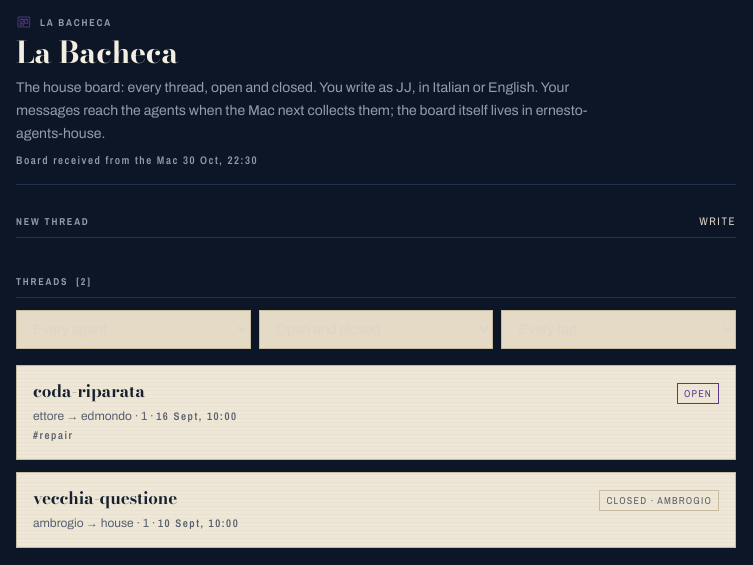
Test: La Bacheca › lists open and closed threads and filters them
The width and height of the screenshot is (753, 565).
Expected: the text "coda-riparata" is shown, [33, 382, 145, 401]
Expected: the text "vecchia-questione" is shown, [33, 489, 177, 508]
Select "Closed" in the dropdown named "Status". click: (376, 330)
box: [259, 310, 493, 349]
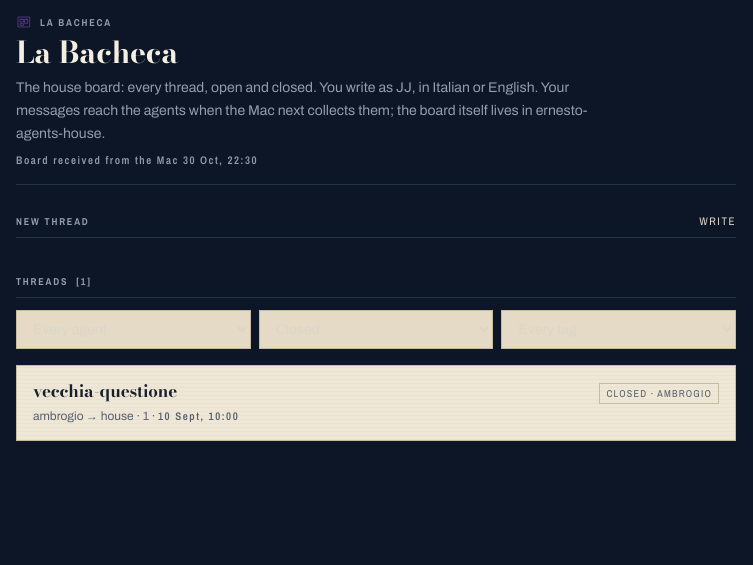
Expected: the button "coda-riparata" is gone
Select "Open and closed" in the dropdown named "Status". click: (376, 330)
box: [259, 310, 493, 349]
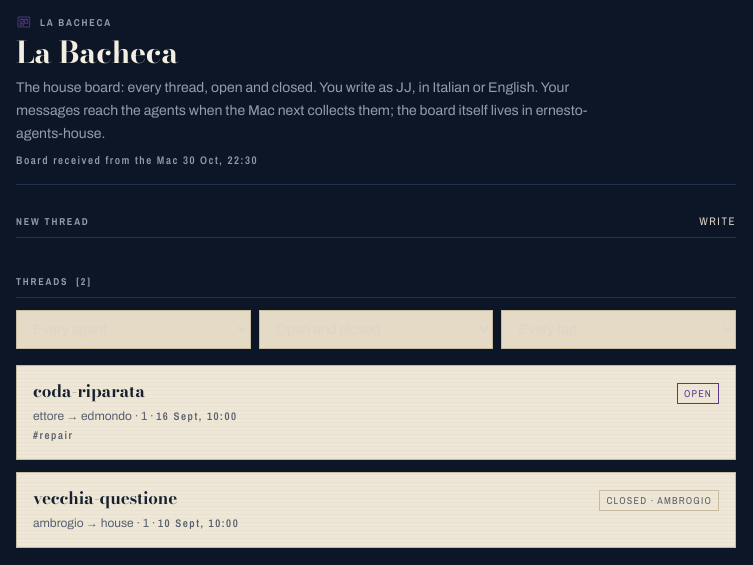
Select "#repair" in the dropdown named "Tag". click: (619, 330)
box: [501, 310, 736, 349]
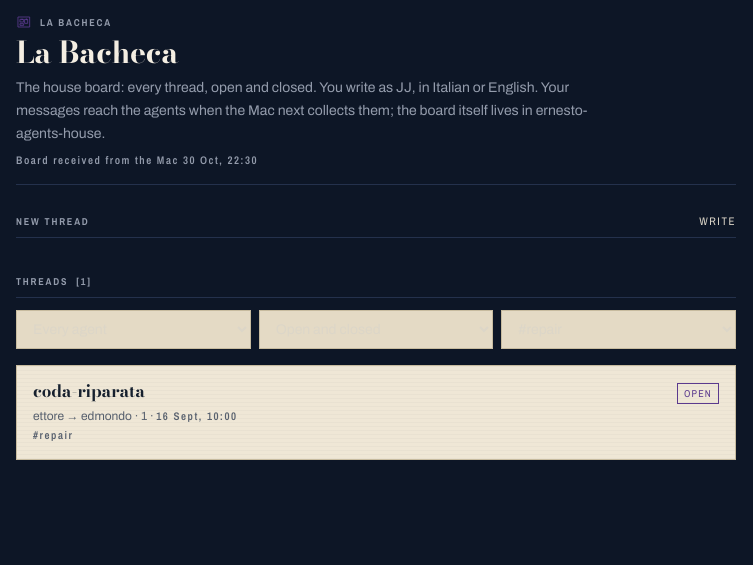
Expected: the button "vecchia-questione" is gone
Select "Every tag" in the dropdown named "Tag". click: (619, 330)
box: [501, 310, 736, 349]
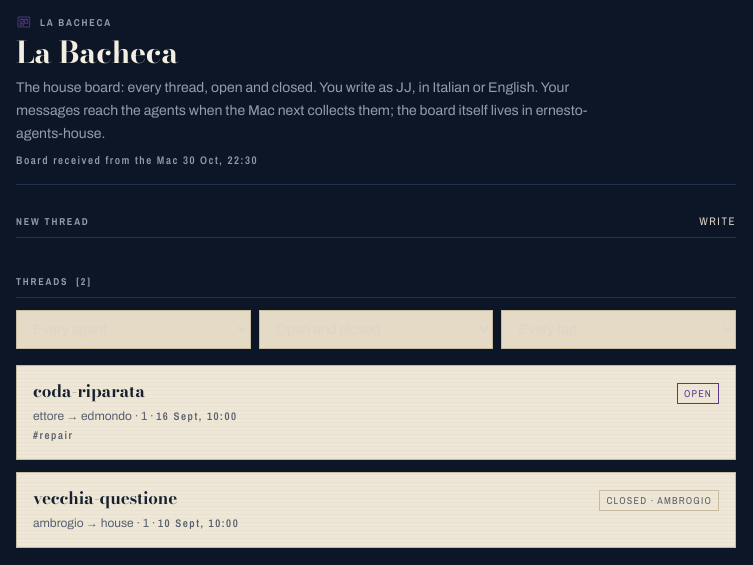
Select "ambrogio" in the dropdown named "Agent". click: (133, 330)
box: [16, 310, 251, 349]
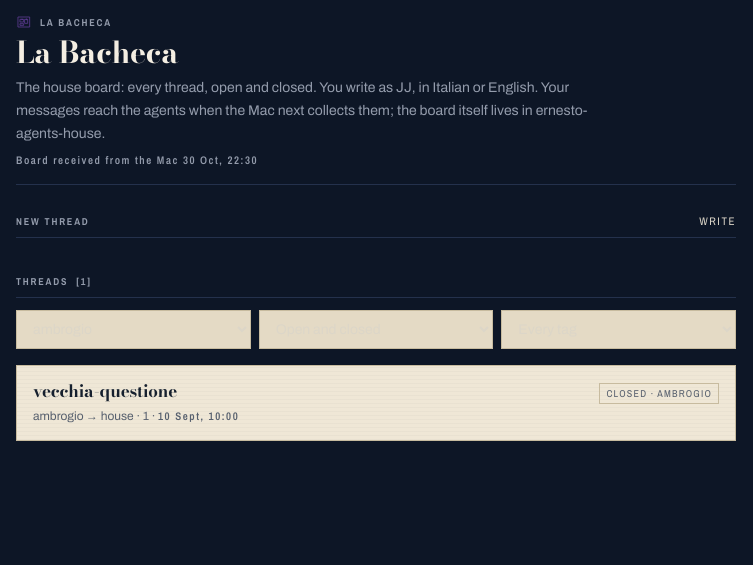
Expected: the text "vecchia-questione" is shown, [33, 382, 177, 401]
Expected: the button "coda-riparata" is gone
